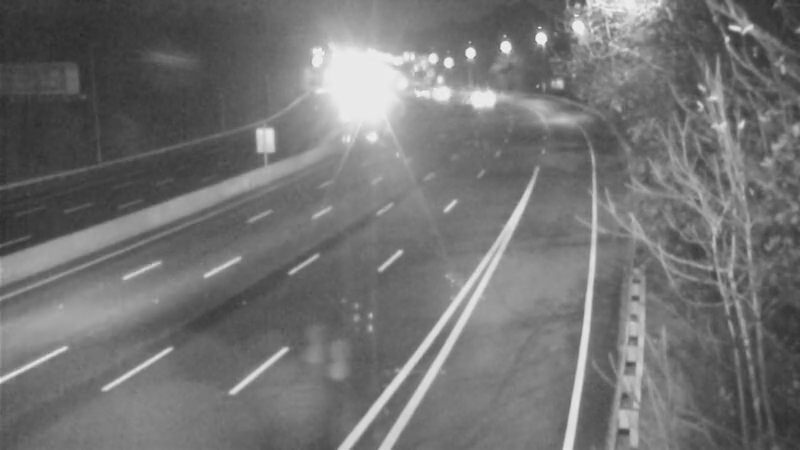vehicle: (454, 71, 504, 121)
